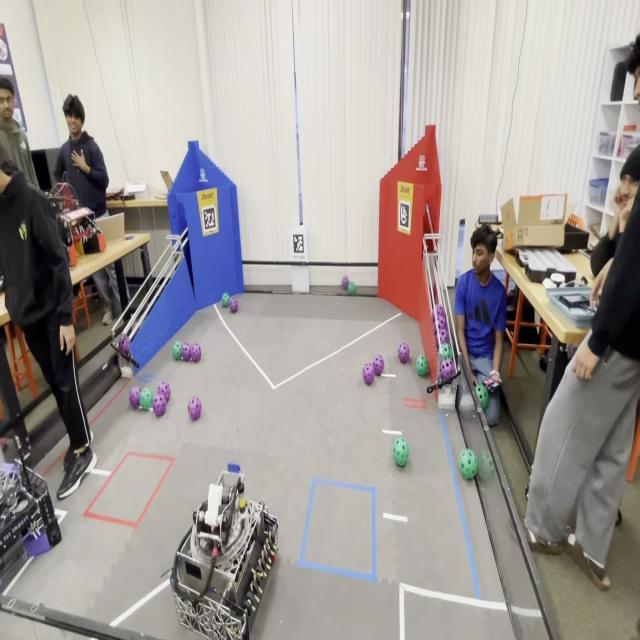artifact_green: (459, 449, 477, 479), (478, 450, 495, 481), (393, 438, 408, 467), (476, 383, 488, 411), (140, 388, 153, 410), (438, 343, 452, 362), (416, 355, 428, 376), (172, 341, 182, 360), (615, 509, 622, 527), (222, 293, 230, 308), (348, 281, 356, 295), (525, 485, 529, 500), (637, 618, 639, 633)
artifact_purple: (440, 359, 455, 381), (153, 393, 167, 416), (188, 397, 201, 420), (129, 386, 141, 409), (363, 363, 375, 385), (158, 382, 170, 402), (119, 334, 130, 355), (398, 343, 409, 363), (373, 355, 384, 375), (191, 344, 201, 362), (439, 329, 449, 343), (182, 343, 190, 360), (230, 297, 238, 313), (342, 276, 350, 291), (436, 304, 445, 316), (438, 316, 447, 328), (433, 317, 438, 333), (432, 314, 439, 325)
